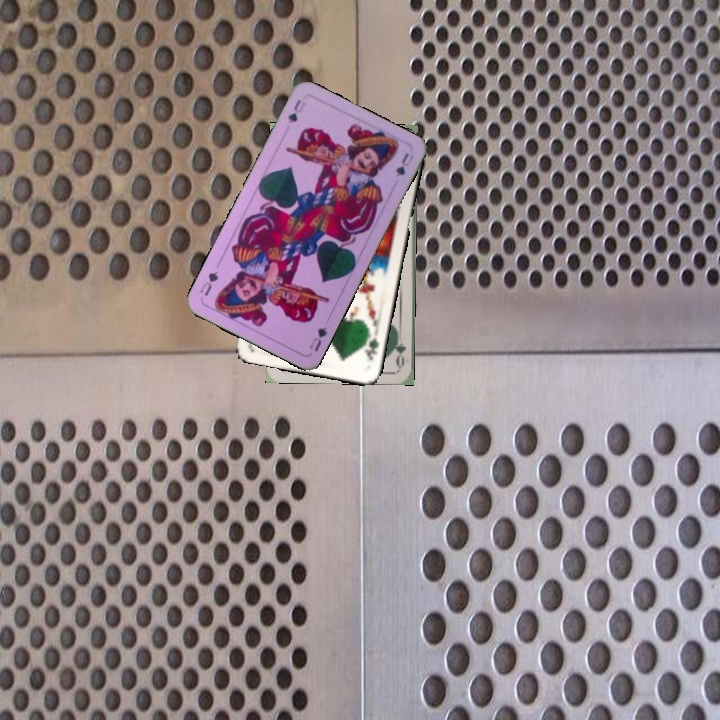GK: (360, 329, 382, 362)
GO: (390, 328, 408, 368)
GU: (305, 323, 330, 354), (284, 95, 308, 126)
